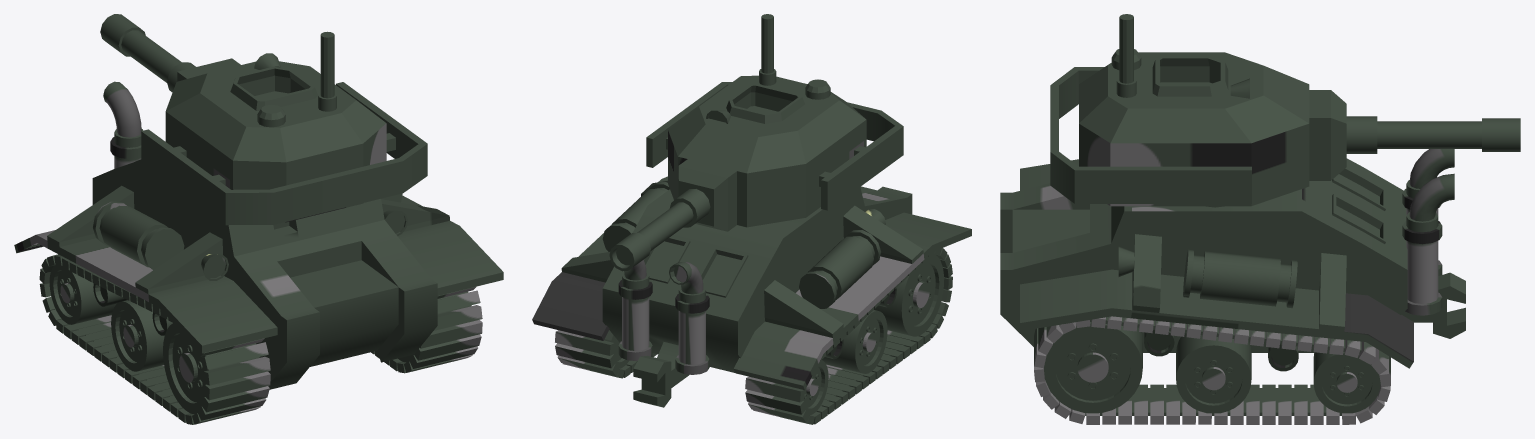
The model's file is 962_Tank_Idle_Back.fbx.
The picture shows the model from 3 angles, left to right: view 1: azimuth 30°, elevation 25°; view 2: azimuth 150°, elevation 25°; view 3: azimuth 270°, elevation 25°; orthographic projection. The views are drawn at different scales.
Parts seen in each view (by area): view 1: TankHead, TankBody, RightDuct, LeftDuct, WheelFront, WheelMiddle, Muzzle, WheelBack, GasRoad1, RightTrack007, RightTrack006, RightTrack008 (+7 smaller); view 2: TankHead, TankBody, RightDuct, LeftDuct, GasRoad1, WheelFront, GasRoad2, Muzzle, WheelMiddle, WheelBack, LeftTrack031, RightTrack031 (+4 smaller); view 3: TankHead, TankBody, LeftDuct, WheelFront, WheelMiddle, GasRoad2, Muzzle, WheelBack, GasRoad1, Base, RightDuct, RollBack (+8 smaller).
Part boxes in pixels (bbox=[...]): TankHead: bbox=[141, 31, 427, 225]; TankBody: bbox=[92, 159, 437, 389]; RightDuct: bbox=[14, 185, 277, 353]; LeftDuct: bbox=[381, 193, 503, 295]; WheelFront: bbox=[163, 291, 471, 414]; WheelMiddle: bbox=[111, 300, 164, 371]; Muzzle: bbox=[100, 14, 181, 82]; WheelBack: bbox=[49, 265, 116, 324]; GasRoad1: bbox=[103, 81, 143, 168]; RightTrack007: bbox=[204, 356, 270, 385]; RightTrack006: bbox=[204, 371, 270, 400]; RightTrack008: bbox=[200, 342, 268, 370]; TankHead: bbox=[646, 14, 903, 231]; TankBody: bbox=[602, 186, 912, 407]; RightDuct: bbox=[733, 205, 971, 390]; LeftDuct: bbox=[532, 176, 669, 340]; GasRoad1: bbox=[669, 262, 709, 374]; WheelFront: bbox=[874, 254, 944, 336]; GasRoad2: bbox=[618, 260, 652, 360]; Muzzle: bbox=[609, 202, 693, 271]; WheelMiddle: bbox=[822, 310, 887, 373]; WheelBack: bbox=[604, 338, 828, 415]; LeftTrack031: bbox=[555, 330, 614, 355]; RightTrack031: bbox=[745, 376, 804, 402]; TankHead: bbox=[1050, 14, 1377, 206]; TankBody: bbox=[1000, 158, 1465, 352]; LeftDuct: bbox=[1020, 234, 1413, 368]; WheelFront: bbox=[1044, 322, 1142, 413]; WheelMiddle: bbox=[1176, 333, 1251, 413]; GasRoad2: bbox=[1402, 173, 1454, 315]; Muzzle: bbox=[1377, 118, 1520, 151]; WheelBack: bbox=[1313, 350, 1380, 413]; GasRoad1: bbox=[1402, 149, 1454, 275]; Base: bbox=[1085, 317, 1361, 415]; RightDuct: bbox=[1020, 159, 1078, 190]; RollBack: bbox=[1268, 344, 1298, 371].
Bounding box in the file's own units: 781 × 829 × 1113.
